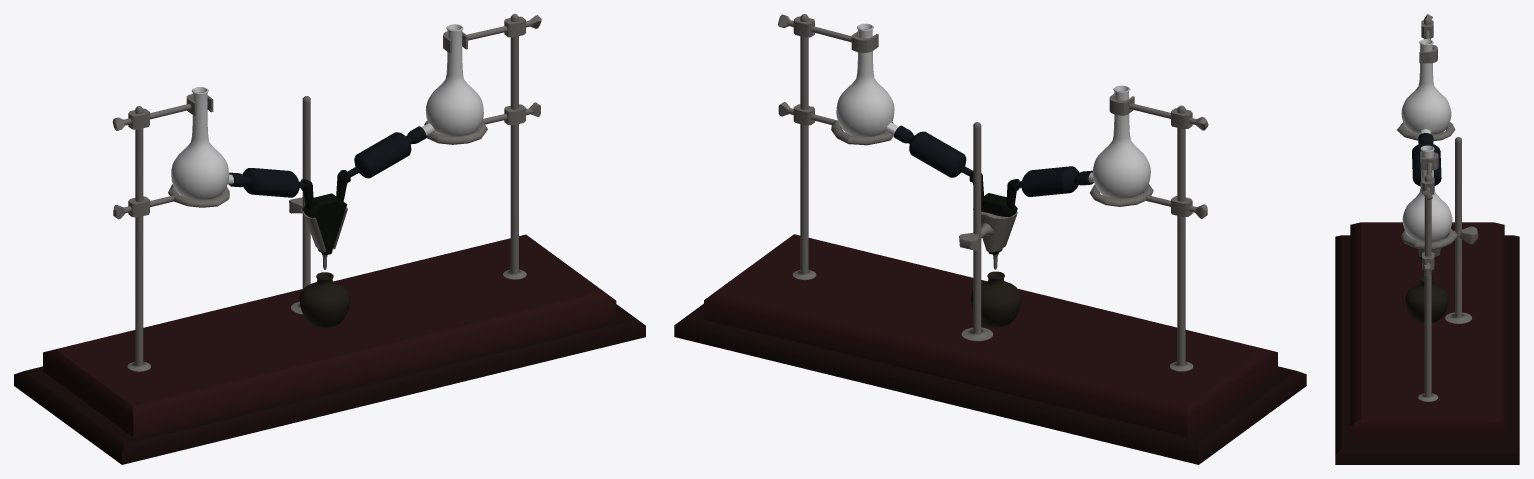
File: Combiner.obj
3 renders of one model, left to right at view 1: azimuth 30°, elevation 25°; view 2: azimuth 150°, elevation 25°; view 3: azimuth 270°, elevation 25°, orthographic. The views are drawn at different scales.
Visible parts, largest first — view 1: Combiner Base UpperBase, Combiner Base Base, Combiner LeftStand PotLeft, Combiner RightStand PotRight, Combiner Stand LeftStand, Combiner Stand RightStand, Catcher Combiner, Combiner CombinerPart:Combiner CombinerPart1, Combiner Filter FiltrationRight, Combiner Filter FiltrationLeft, Combiner Stand2 CenterStand; view 2: Combiner Base UpperBase, Combiner Base Base, Combiner RightStand PotRight, Combiner LeftStand PotLeft, Combiner Stand LeftStand, Combiner Stand RightStand, Combiner Stand2 CenterStand, Combiner Filter FiltrationRight, Catcher Combiner, Combiner Filter FiltrationLeft, Combiner CombinerPart:Combiner CombinerPart1, Combiner CenterStand Grip Grip1 (+1 smaller); view 3: Combiner Base UpperBase, Combiner Base Base, Combiner LeftStand PotLeft, Combiner RightStand PotRight, Combiner Stand RightStand, Combiner Stand2 CenterStand, Catcher Combiner, Combiner Filter FiltrationLeft, Combiner RightStand StandBot pCube6, Combiner LeftStand StandBot pCube6, Combiner LeftStand StandTop pCube5, Combiner CenterStand pCube8 Grip (+1 smaller).
Part boxes in pixels (<box>): Combiner Base UpperBase: <box>43,234,616,437</box>; Combiner Base Base: <box>14,304,645,464</box>; Combiner LeftStand PotLeft: <box>171,87,233,199</box>; Combiner RightStand PotRight: <box>422,24,483,136</box>; Combiner Stand LeftStand: <box>127,106,150,371</box>; Combiner Stand RightStand: <box>503,14,526,279</box>; Catcher Combiner: <box>299,272,350,327</box>; Combiner CombinerPart:Combiner CombinerPart1: <box>300,170,350,255</box>; Combiner Filter FiltrationRight: <box>347,126,426,178</box>; Combiner Filter FiltrationLeft: <box>229,168,304,197</box>; Combiner Stand2 CenterStand: <box>291,96,310,314</box>; Combiner Base UpperBase: <box>704,234,1277,437</box>; Combiner Base Base: <box>674,304,1306,464</box>; Combiner RightStand PotRight: <box>836,23,898,136</box>; Combiner LeftStand PotLeft: <box>1088,85,1150,198</box>; Combiner Stand LeftStand: <box>1169,105,1193,371</box>; Combiner Stand RightStand: <box>792,14,816,280</box>; Combiner Stand2 CenterStand: <box>961,122,993,341</box>; Combiner Filter FiltrationRight: <box>894,125,972,177</box>; Catcher Combiner: <box>970,271,1021,327</box>; Combiner Filter FiltrationLeft: <box>1015,166,1093,196</box>; Combiner CombinerPart:Combiner CombinerPart1: <box>969,171,1019,254</box>; Combiner CenterStand Grip Grip1: <box>973,209,1017,252</box>; Combiner Base UpperBase: <box>1350,222,1504,442</box>; Combiner Base Base: <box>1335,235,1519,464</box>; Combiner LeftStand PotLeft: <box>1401,39,1451,134</box>; Combiner RightStand PotRight: <box>1402,145,1452,242</box>; Combiner Stand RightStand: <box>1418,175,1438,401</box>; Combiner Stand2 CenterStand: <box>1445,137,1472,323</box>; Catcher Combiner: <box>1405,276,1448,323</box>; Combiner Filter FiltrationLeft: <box>1412,133,1441,186</box>; Combiner RightStand StandBot pCube6: <box>1400,228,1457,249</box>; Combiner LeftStand StandBot pCube6: <box>1397,122,1455,141</box>; Combiner LeftStand StandTop pCube5: <box>1419,45,1437,63</box>; Combiner CenterStand pCube8 Grip: <box>1460,226,1478,244</box>.
Size of the model in its own units: 13.78 by 7.64 by 4.91.
